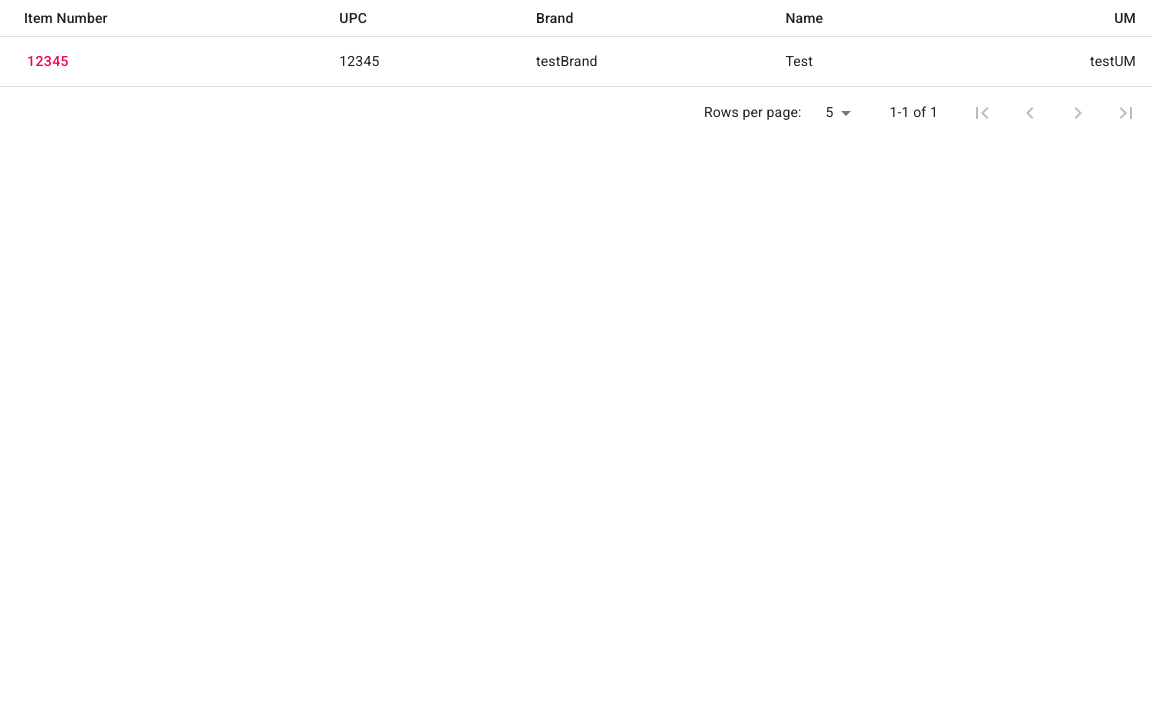
Test case: ProductTableComponent Tests › Product Table shows Table Row for returned Product data
Click the button "12345".
click(48, 61)  # box x1=16 y1=43 x2=80 y2=80
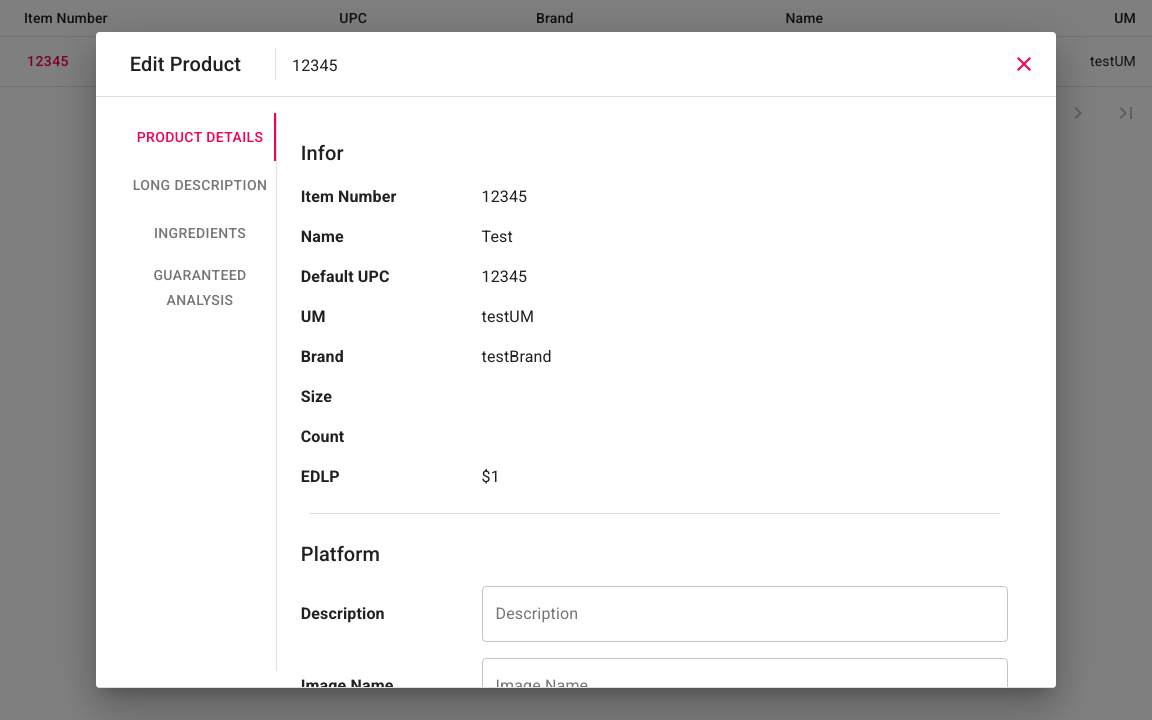
Result: the heading with test id "product-details-dialog-subtitle-text" reads "12345" at x1=292 y1=56 x2=338 y2=75
